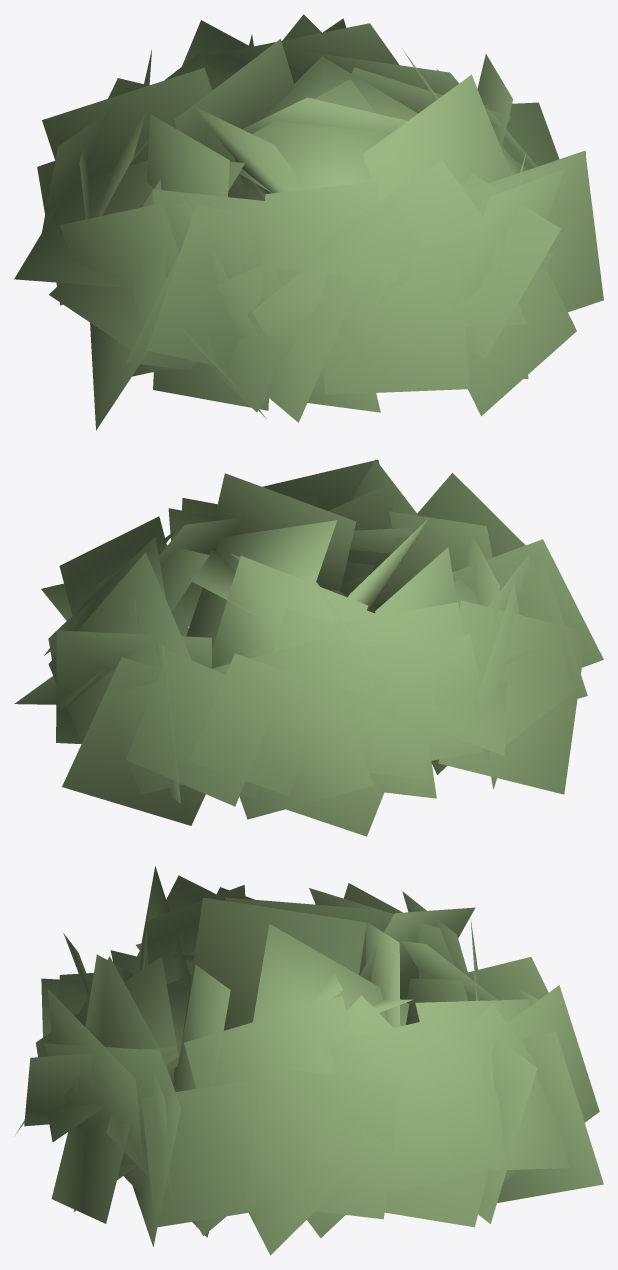
The model's file is juniper.glb.
3 renders of one model, top to bottom at view 1: azimuth 30°, elevation 25°; view 2: azimuth 150°, elevation 25°; view 3: azimuth 270°, elevation 25°, orthographic. The views are drawn at different scales.
Parts seen in each view (by area): view 1: Juniper_LOD0; view 2: Juniper_LOD0; view 3: Juniper_LOD0.
Boxes of the visible parts, x1,y1,x2,y2 form: Juniper_LOD0: (14,14,603,430); Juniper_LOD0: (14,459,603,836); Juniper_LOD0: (15,866,603,1255).
Size of what is drawn, in the model's own units: 2.92 by 1.46 by 2.95.
